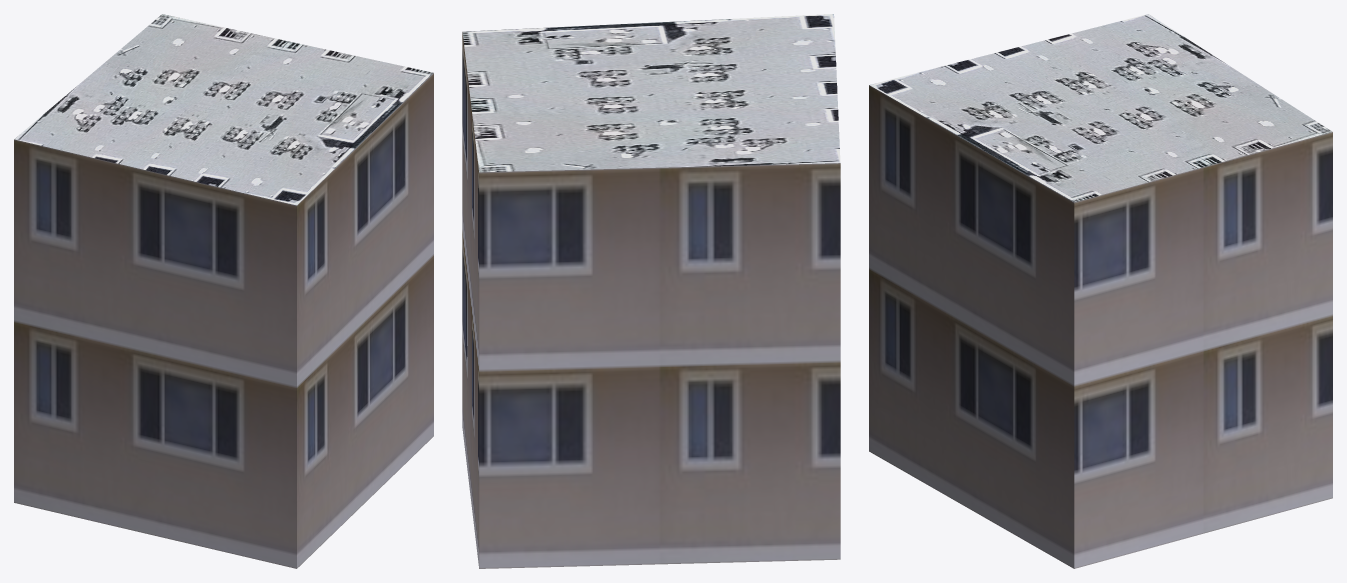
Rendered from ResTex__1501.fbx.
The picture shows the model from 3 angles, left to right: view 1: azimuth 30°, elevation 25°; view 2: azimuth 150°, elevation 25°; view 3: azimuth 270°, elevation 25°; orthographic projection. The views are drawn at different scales.
Parts seen in each view (by area): view 1: CityEngineMaterial_21_m, CityEngineMaterial_4_m; view 2: CityEngineMaterial_21_m, CityEngineMaterial_4_m; view 3: CityEngineMaterial_21_m, CityEngineMaterial_4_m.
Part boxes in pixels (x1,y1,x2,y2): CityEngineMaterial_21_m: (14,73,433,568); CityEngineMaterial_4_m: (14,14,433,205); CityEngineMaterial_21_m: (462,32,840,568); CityEngineMaterial_4_m: (462,14,840,172); CityEngineMaterial_21_m: (869,85,1332,568); CityEngineMaterial_4_m: (869,14,1332,202).
Size of the model in its own units: 6.62 by 6 by 6.88.
2 materials, 2 textured.
